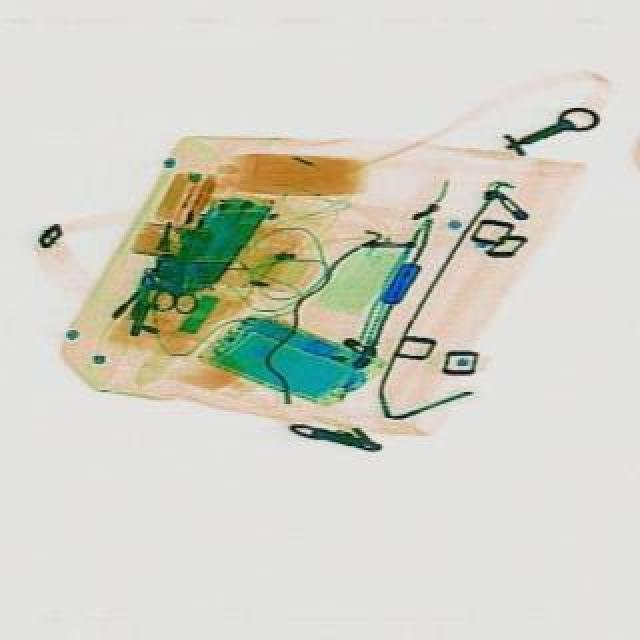pliers: (156, 246, 212, 318)
